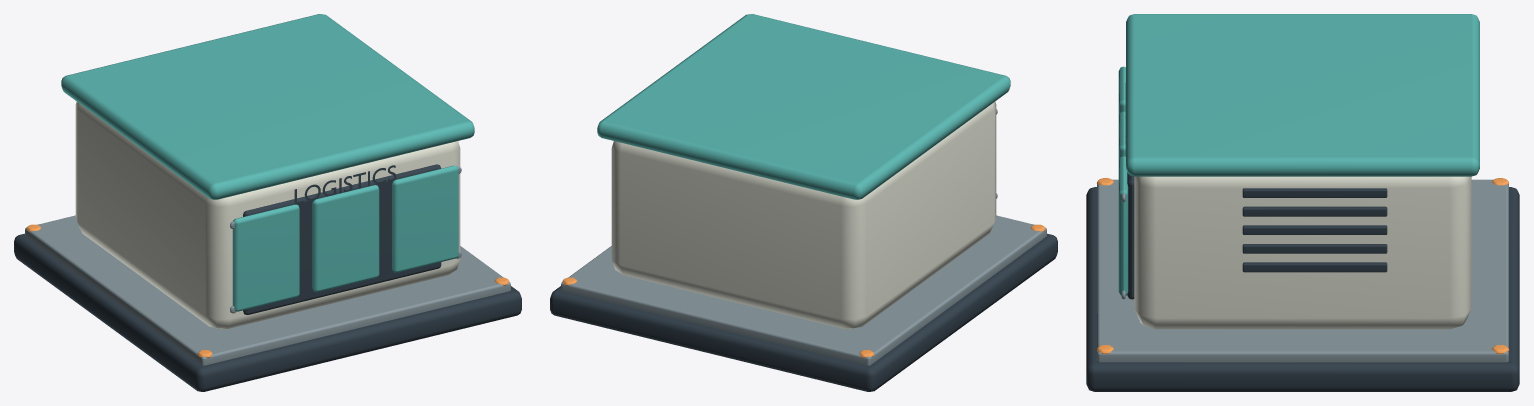
The model's file is storage.glb.
3 renders of one model, left to right at view 1: azimuth 30°, elevation 25°; view 2: azimuth 150°, elevation 25°; view 3: azimuth 270°, elevation 25°, orthographic. The views are drawn at different scales.
Visible parts, largest first — view 1: Roof trim, Machine shell, Foundation graphite, Inset apron; view 2: Machine shell, Roof trim, Inset apron, Foundation graphite; view 3: Roof trim, Machine shell, Foundation graphite, Inset apron, Foundation anchor.
Part boxes in pixels (x1,y1,x2,y2): Roof trim: (61,14,474,311); Machine shell: (75,102,460,328); Foundation graphite: (14,164,521,391); Inset apron: (25,166,510,365); Machine shell: (611,102,996,328); Roof trim: (597,14,1010,199); Inset apron: (561,109,1046,365); Foundation graphite: (550,233,1057,391); Roof trim: (1118,14,1479,295); Machine shell: (1134,176,1471,329); Foundation graphite: (1086,83,1519,391); Inset apron: (1097,179,1508,362); Foundation anchor: (1097,178,1508,353).
Size of the model in its own units: 3.6 by 2 by 3.6.
